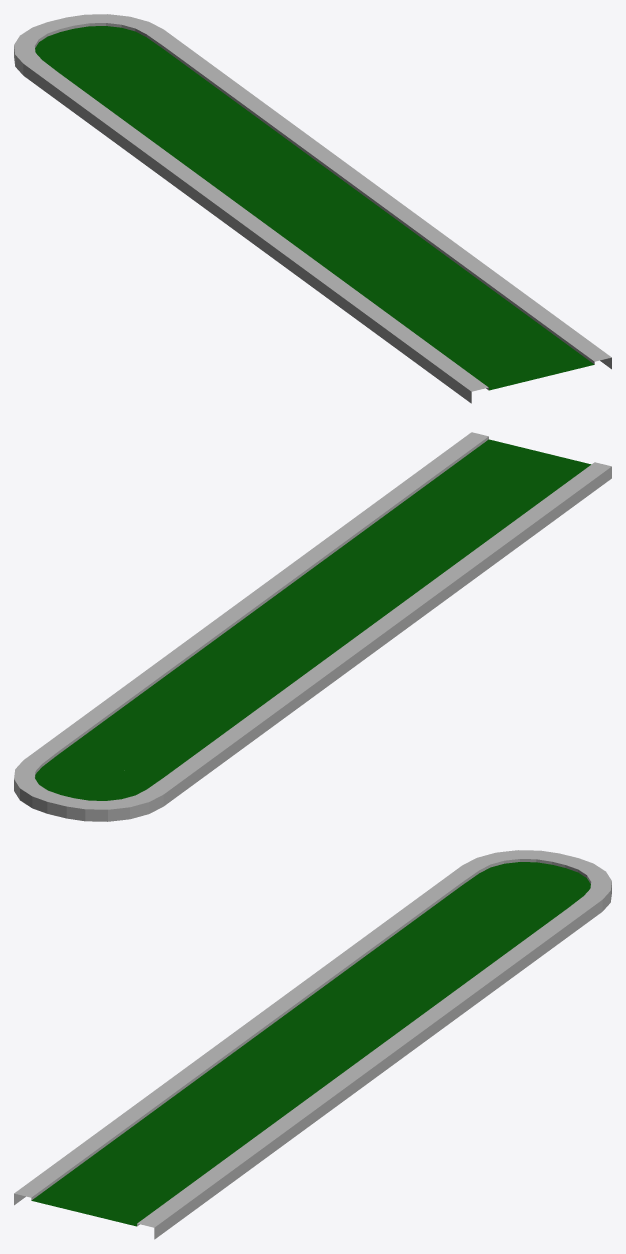
Rendered from Road-FB2.fbx.
3 views of the same model, one above another, from view 1: azimuth 30°, elevation 25°; view 2: azimuth 150°, elevation 25°; view 3: azimuth 330°, elevation 25° (orthographic).
Visible parts, largest first — view 1: Road.FB2; view 2: Road.FB2; view 3: Road.FB2.
Boxes of the visible parts, x1=… form: Road.FB2: x1=14, y1=14, x2=611, y2=403; Road.FB2: x1=14, y1=432, x2=611, y2=821; Road.FB2: x1=14, y1=850, x2=611, y2=1239.
Size of what is drawn, in the model's own units: 2.44 by 0.2 by 14.6.
